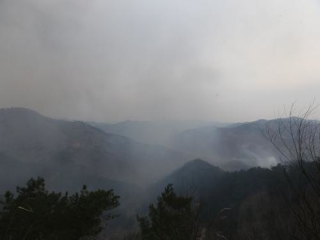smoke: (36, 35, 233, 222), (233, 146, 288, 171)
